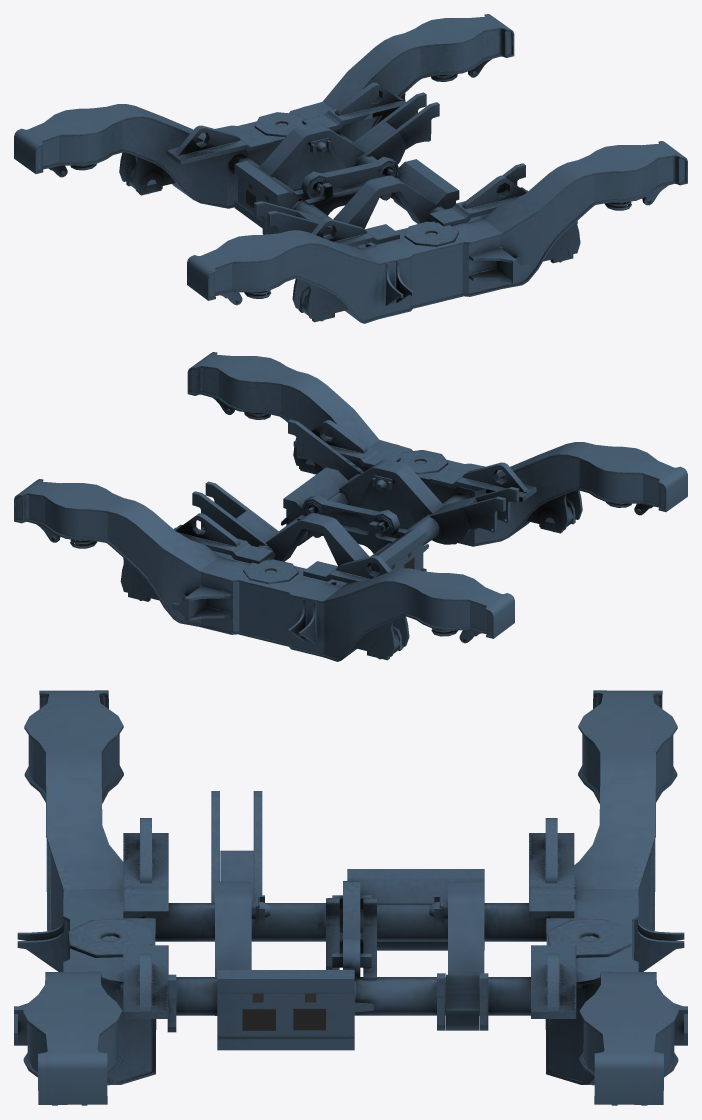
File: goujia.FBX
The picture shows the model from 3 angles, top to bottom: view 1: azimuth 30°, elevation 25°; view 2: azimuth 150°, elevation 25°; view 3: azimuth 270°, elevation 25°; orthographic projection. The views are drawn at different scales.
Visible parts, largest first — view 1: Object092, Object072; view 2: Object092, Object072; view 3: Object092, Object072.
Part boxes in pixels (left/top/right/bottom): Object092: left=14, top=14, right=687, bottom=323; Object072: left=166, top=82, right=527, bottom=246; Object092: left=14, top=352, right=687, bottom=661; Object072: left=174, top=419, right=536, bottom=584; Object092: left=14, top=690, right=687, bottom=1105; Object072: left=68, top=791, right=631, bottom=1050.
Bounding box in the file's own units: 3.23 × 0.6414 × 2.46.
